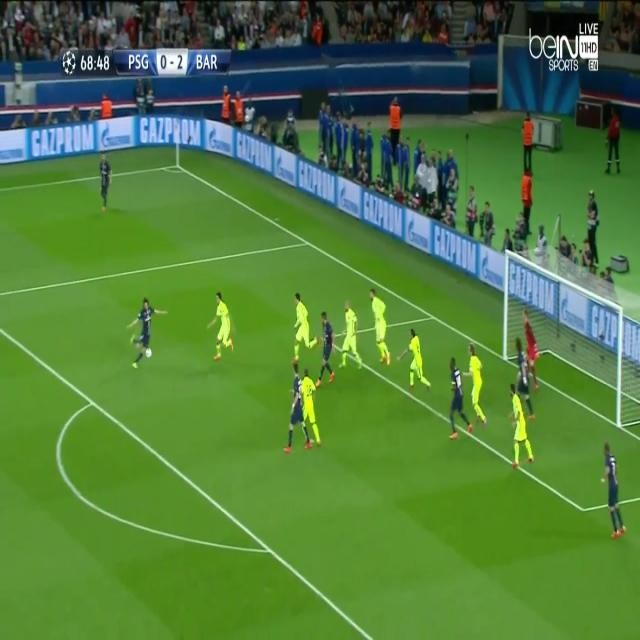Ball: (144, 344, 153, 361)
Goalkeeper: (520, 306, 540, 389)
Player: (126, 296, 168, 372), (601, 439, 631, 541), (282, 363, 314, 457), (505, 381, 535, 472), (396, 327, 431, 398), (462, 342, 489, 431), (448, 355, 474, 443), (208, 286, 235, 365), (368, 286, 393, 370), (513, 336, 537, 420), (338, 299, 365, 373), (300, 364, 323, 448), (292, 289, 318, 362), (314, 310, 337, 390), (98, 150, 114, 217)
